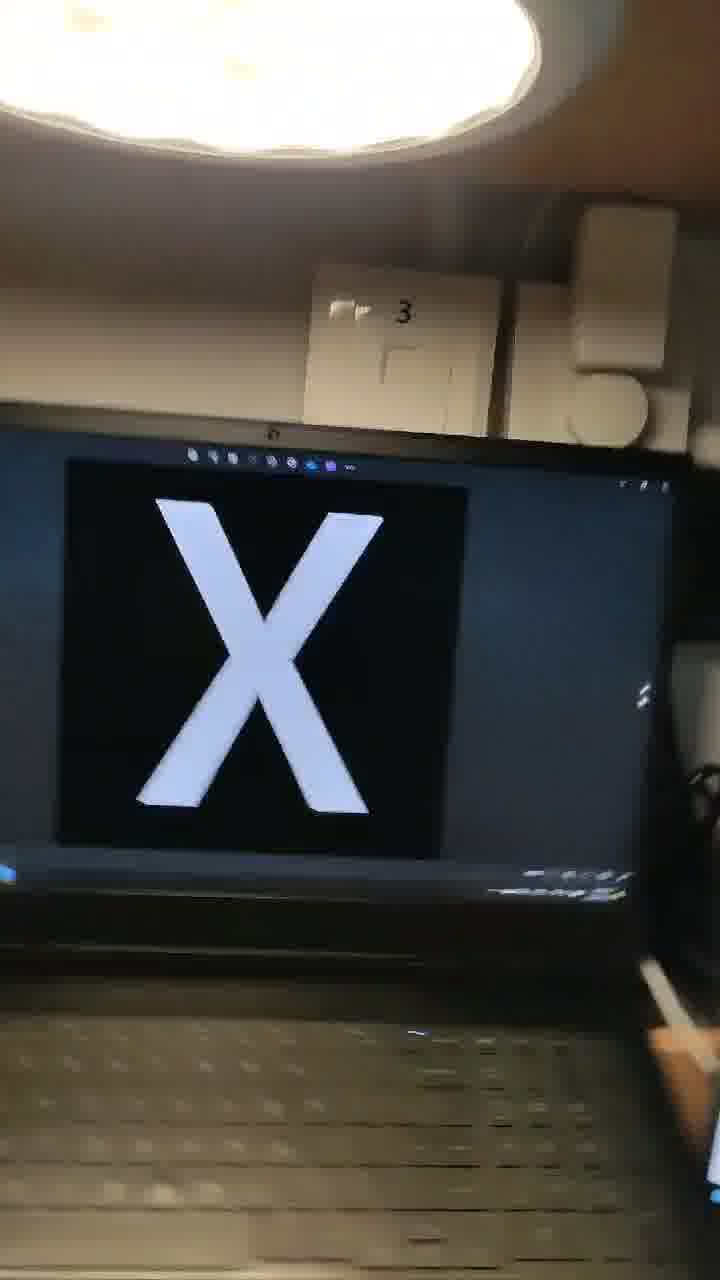X: (79, 421, 496, 959)
